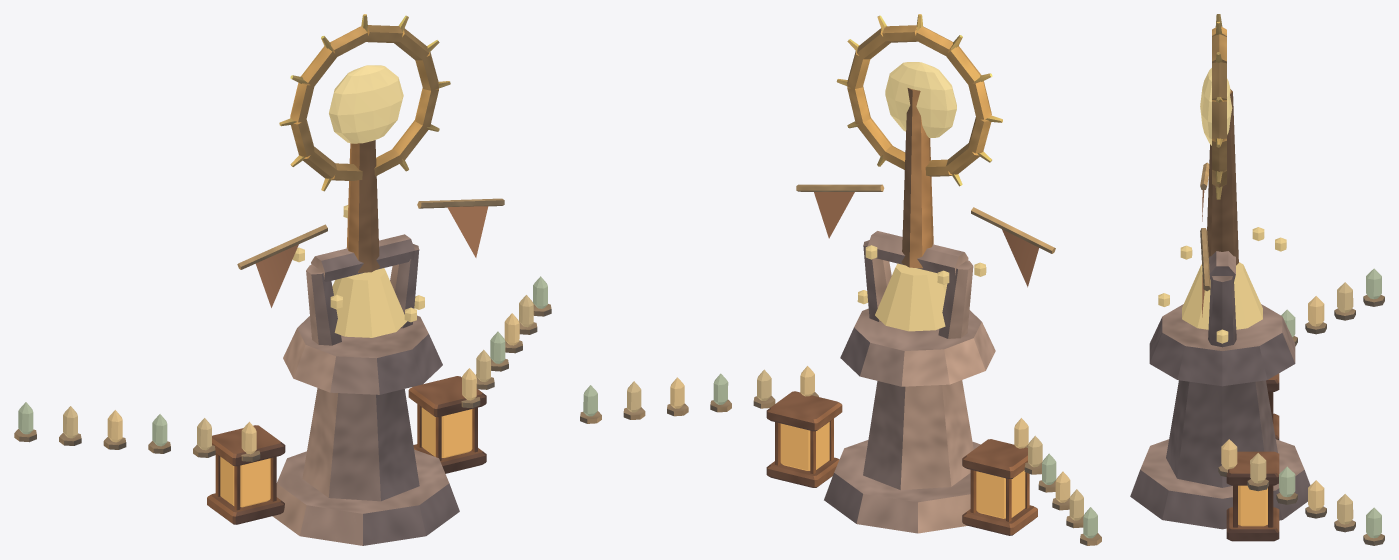
File: resonance_hafen_lit.glb
3 views of the same model, side by side, from view 1: azimuth 30°, elevation 25°; view 2: azimuth 150°, elevation 25°; view 3: azimuth 270°, elevation 25° (orthographic). The views are drawn at different scales.
Parts seen in each view (by area): view 1: Klangstein hafen · wach; view 2: Klangstein hafen · wach; view 3: Klangstein hafen · wach.
Part boxes in pixels (x1,y1,x2,y2): Klangstein hafen · wach: (14,14,551,545); Klangstein hafen · wach: (580,14,1101,545); Klangstein hafen · wach: (1130,14,1384,545).
Size of the model in its own units: 3.44 by 3.03 by 1.5.
2 materials, 1 textured.
